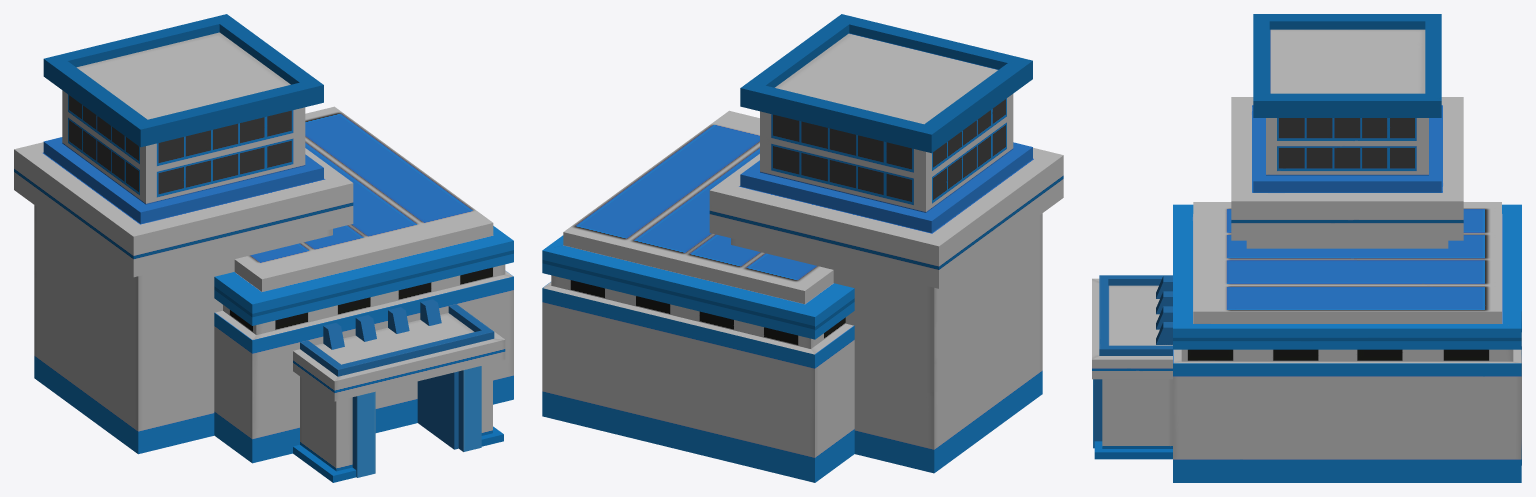
3 views of the same model, side by side, from view 1: azimuth 30°, elevation 25°; view 2: azimuth 150°, elevation 25°; view 3: azimuth 270°, elevation 25° (orthographic). The views are drawn at different scales.
Visible parts, largest first — view 1: Base_1; view 2: Base_1; view 3: Base_1.
Part boxes in pixels (left/top/right/bottom): Base_1: left=14, top=14, right=513, bottom=482; Base_1: left=542, top=14, right=1063, bottom=482; Base_1: left=1092, top=14, right=1521, bottom=482.
Size of the model in its own units: 346 by 302 by 378.
1 material, 1 textured.
